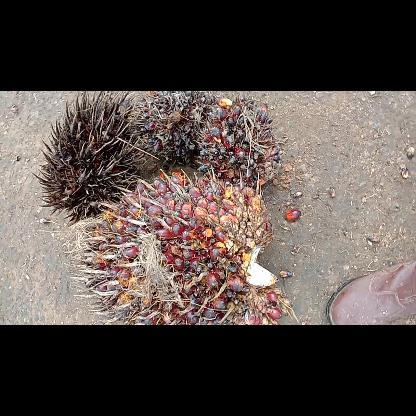Janjang kosong: (27, 91, 144, 223)
TBS abnormal: (194, 96, 284, 190), (132, 92, 218, 168)
TBS masak: (64, 166, 284, 324)
